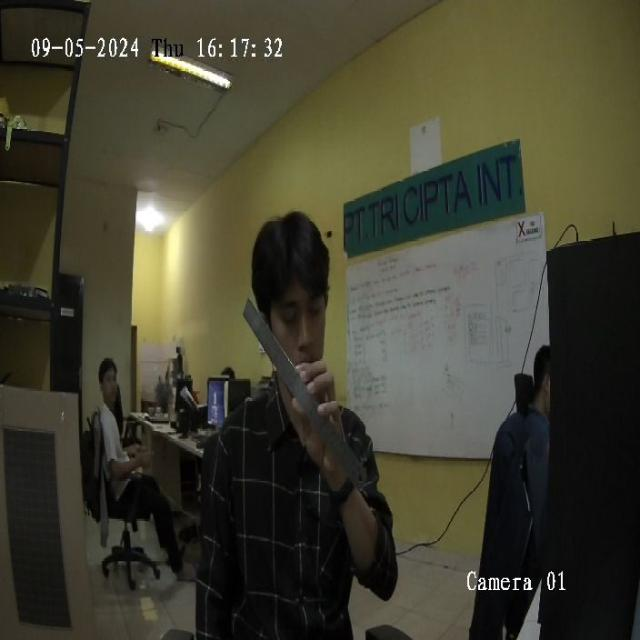Ruler: (245, 299, 365, 483)
